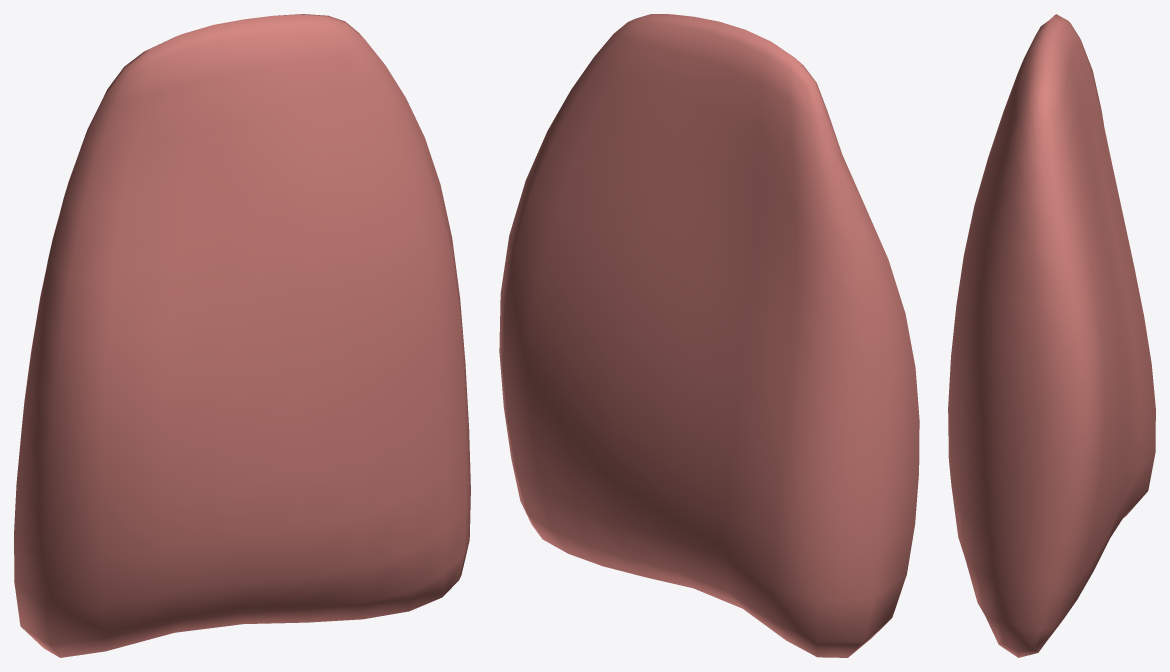
3 views of the same model, side by side, from view 1: azimuth 30°, elevation 25°; view 2: azimuth 150°, elevation 25°; view 3: azimuth 270°, elevation 25° (orthographic). The views are drawn at different scales.
Visible parts, largest first — view 1: ZA_0c725180a29ce0ec; view 2: ZA_0c725180a29ce0ec; view 3: ZA_0c725180a29ce0ec.
Part boxes in pixels (<box>): ZA_0c725180a29ce0ec: <box>14,14,470,657</box>; ZA_0c725180a29ce0ec: <box>499,14,919,657</box>; ZA_0c725180a29ce0ec: <box>948,14,1155,657</box>.
Bounding box in the file's own units: 0.0193 × 0.0267 × 0.00925.
